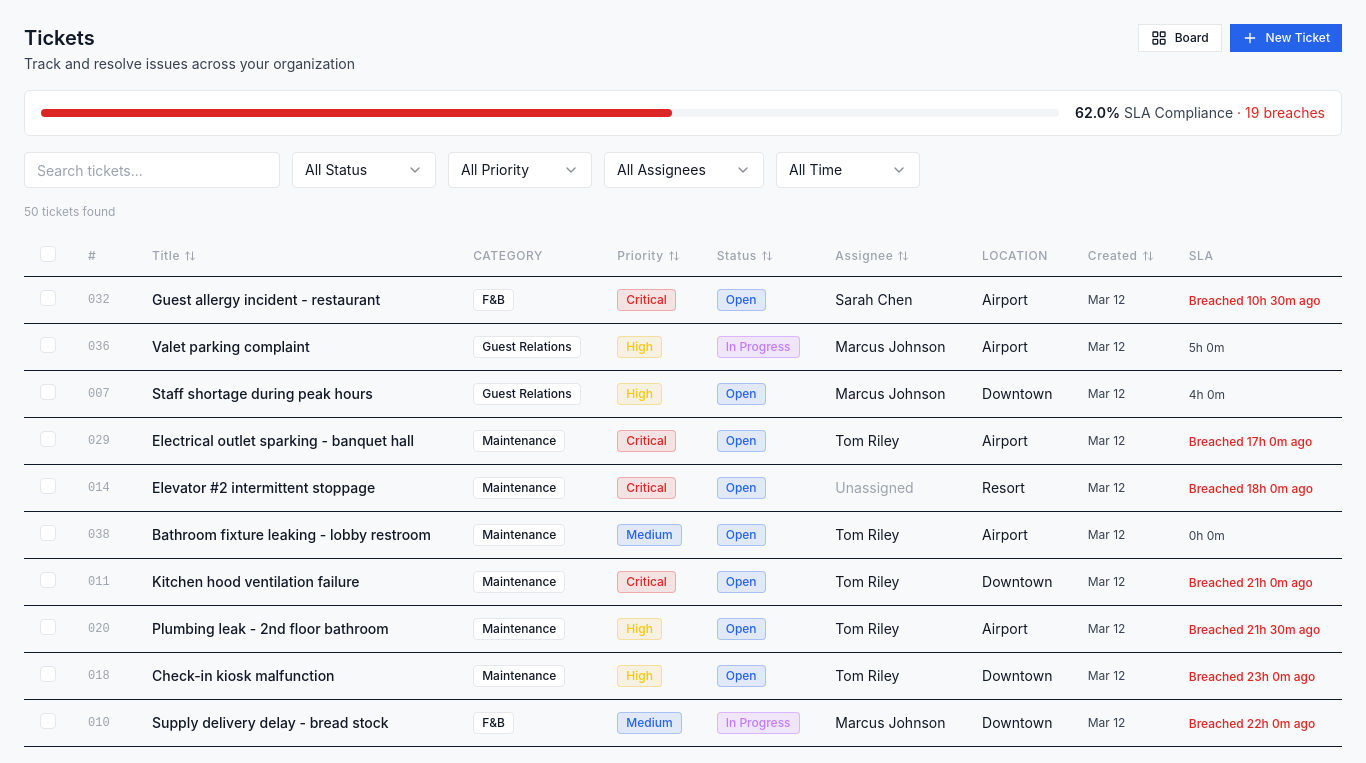
TicketsPage › search filters tickets by title
// Type a short prefix to keep the test fast
Type "Refri" into the field with placeholder "Search tickets..." at (152, 170), box [24,152,280,188]
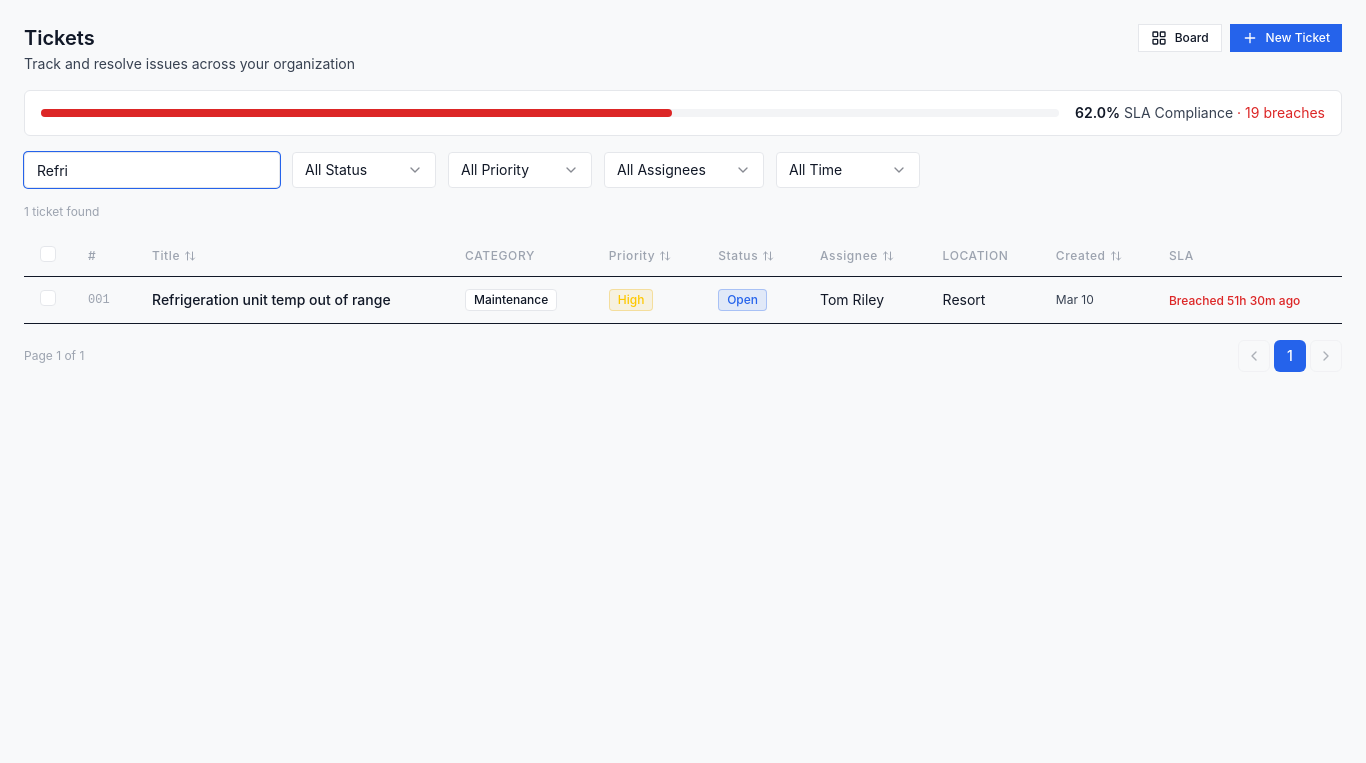
Expected: the link "Refrigeration unit temp out of range" is shown, [152,290,391,308]
